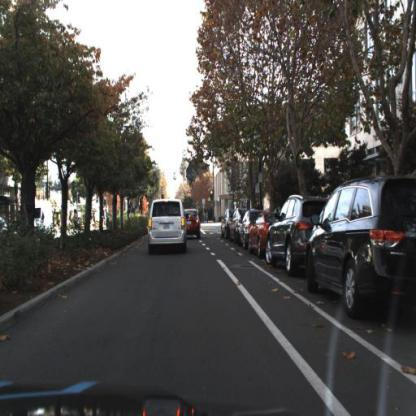car: (306, 169, 416, 322), (266, 193, 319, 278), (144, 190, 194, 261), (27, 198, 56, 239), (247, 212, 274, 256), (179, 206, 202, 240), (238, 206, 254, 250), (222, 203, 236, 242), (229, 207, 243, 246)
trafficLight-Red: (210, 189, 216, 203), (161, 192, 166, 204)
